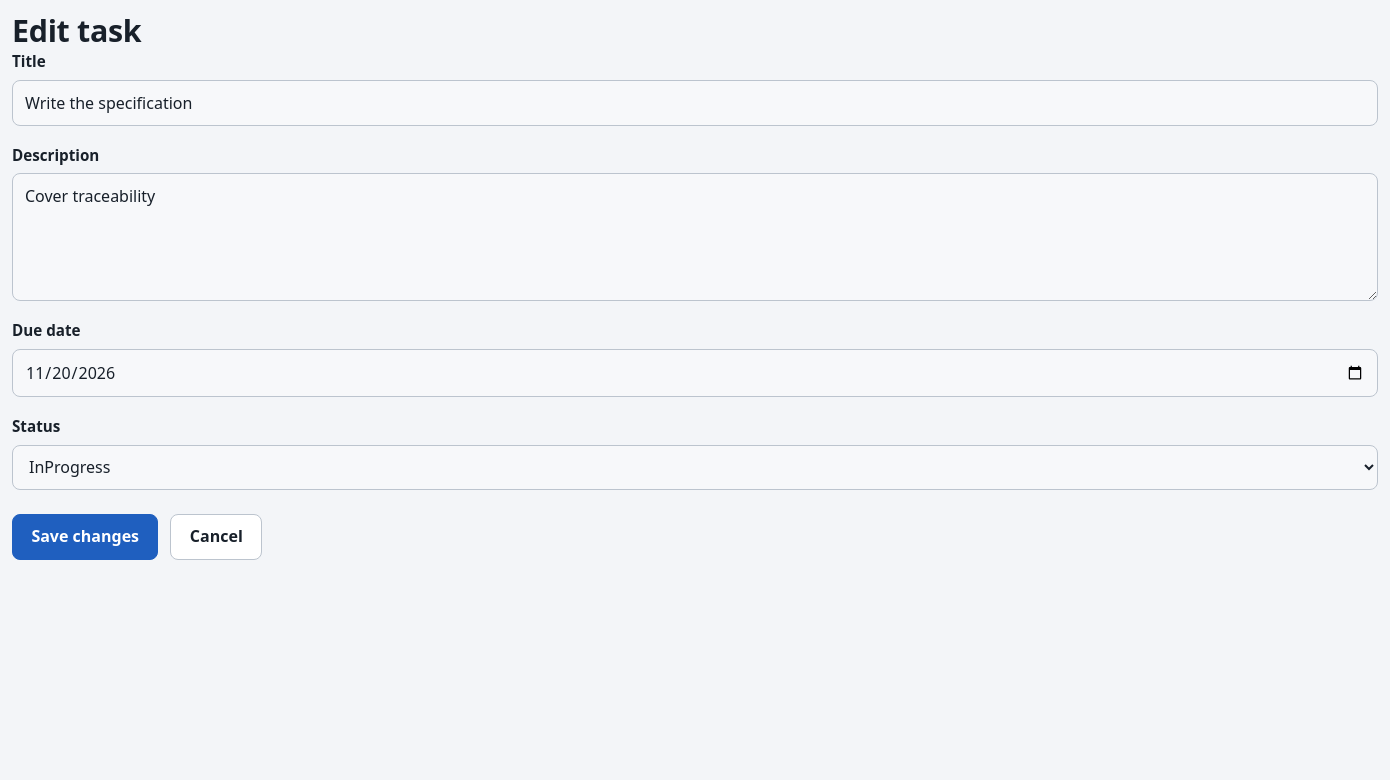
Test: TaskForm in edit mode › keeps the previous values visible when the update fails
Click the button "Save changes" at [85, 537], box [12,514,158,560]
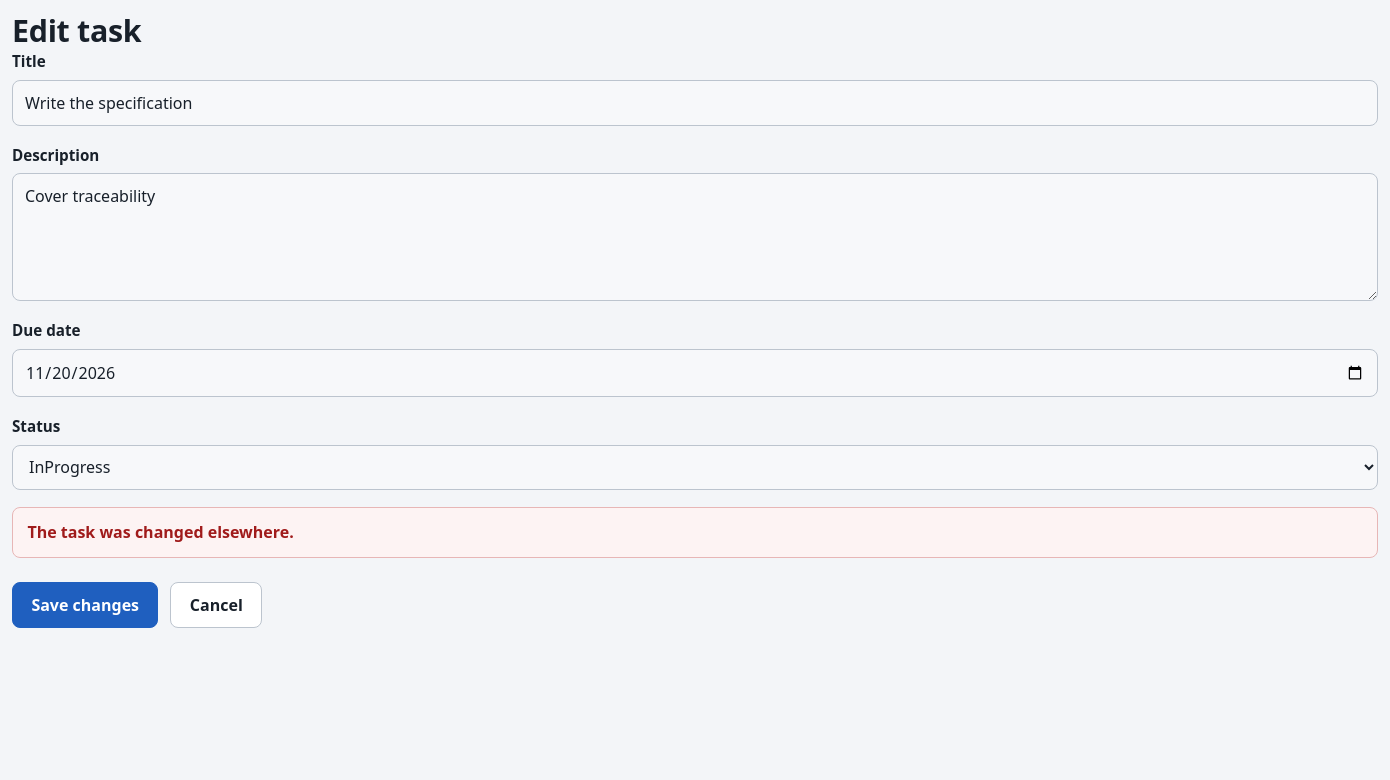
Expected: the field labelled "Title" holds "Write the specification", [12,80,1378,126]
Expected: the message shows "changed elsewhere", [27,521,294,543]
